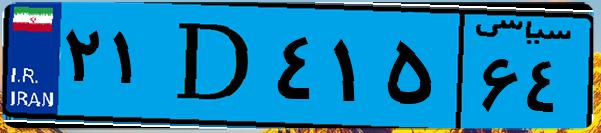1: (330, 28, 385, 110), (110, 28, 158, 98)
2: (57, 26, 110, 100)
4: (270, 28, 330, 110), (525, 38, 570, 115)
5: (385, 28, 445, 110)
6: (475, 38, 525, 113)
D: (158, 12, 270, 120)
